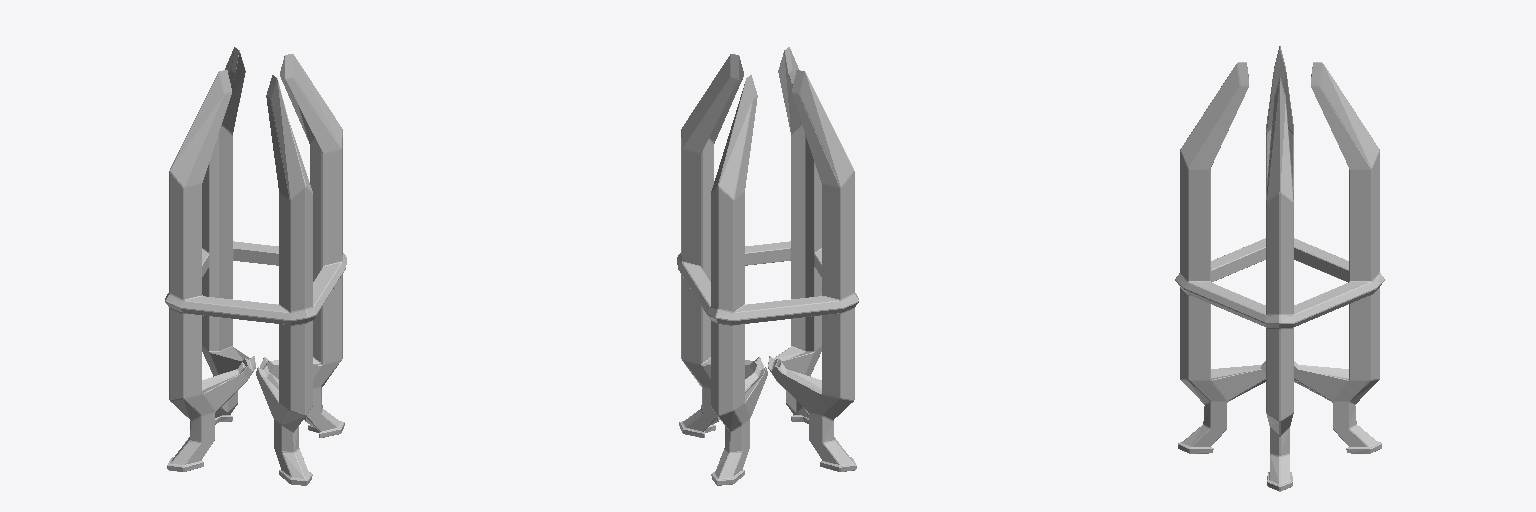
The model's file is CrytalHolder.obj.
3 renders of one model, left to right at view 1: azimuth 30°, elevation 25°; view 2: azimuth 150°, elevation 25°; view 3: azimuth 270°, elevation 25°, orthographic.
Visible parts, largest first — view 1: Cube; view 2: Cube; view 3: Cube.
Boxes of the visible parts, box(x1,y1,x2,y2) form: Cube: box(165, 47, 346, 485); Cube: box(677, 47, 858, 485); Cube: box(1175, 46, 1384, 491).
Bounding box in the file's own units: 5.91 × 12.07 × 5.91.